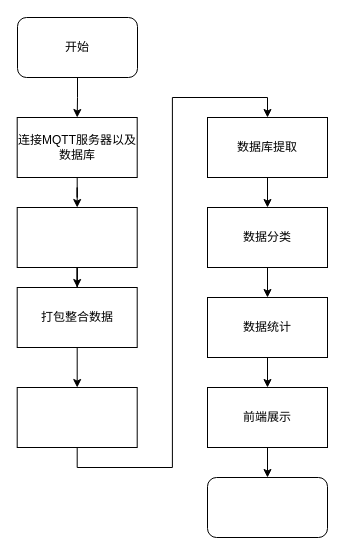
This 346x555 diagram has some shape labels left out. The shapes that lost their labels are listed below. From the top down, each one's centre as x and y in pixels, then its label:
At point (76, 237): "采集数据以及警告".
At point (76, 417): "推送至云平台以及数据库".
At point (267, 507): "结束".
